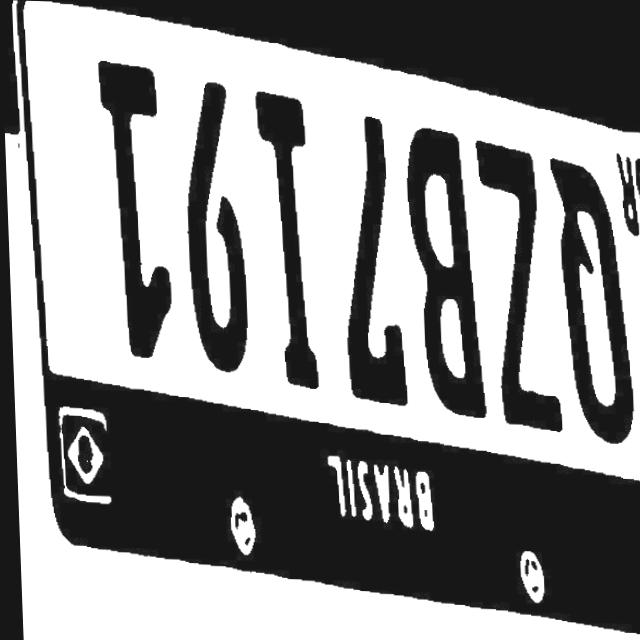1: (96, 57, 174, 360)
7: (338, 112, 408, 404)
9: (178, 79, 249, 374)
b: (404, 122, 483, 418)
i: (253, 87, 317, 390)
q: (549, 154, 635, 442)
z: (475, 135, 558, 433)
